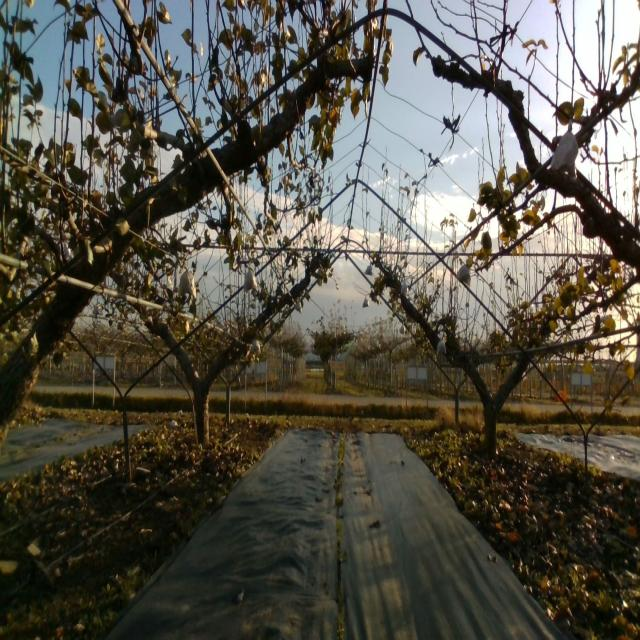pearbags: (550, 116, 579, 183), (177, 265, 197, 300), (455, 263, 472, 288), (244, 266, 258, 292)
